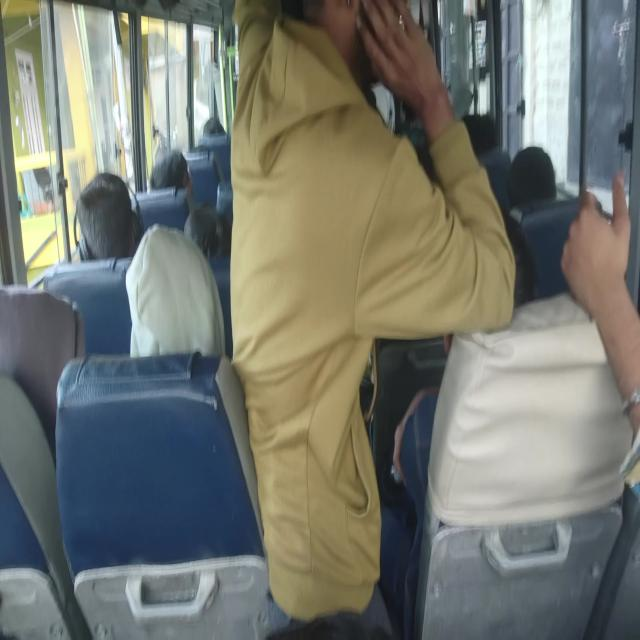person: (239, 3, 456, 432), (0, 286, 85, 486), (429, 220, 537, 371), (126, 230, 231, 382), (74, 186, 140, 270), (181, 198, 249, 257), (156, 140, 202, 202), (458, 119, 512, 171), (509, 148, 565, 196), (401, 135, 438, 205), (200, 109, 235, 153)
